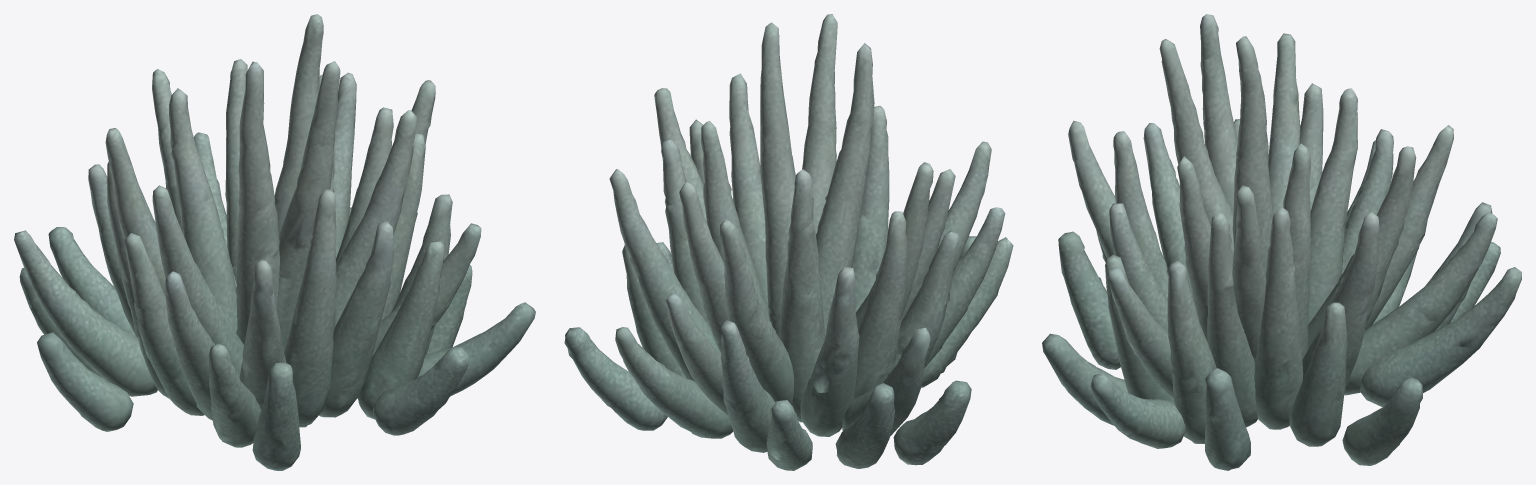
File: Digitate02-transformed.glb
3 views of the same model, side by side, from view 1: azimuth 30°, elevation 25°; view 2: azimuth 150°, elevation 25°; view 3: azimuth 270°, elevation 25° (orthographic). The views are drawn at different scales.
Visible parts, largest first — view 1: Digitate02; view 2: Digitate02; view 3: Digitate02.
Part boxes in pixels (left/top/right/bottom): Digitate02: left=14, top=14, right=535, bottom=470; Digitate02: left=564, top=14, right=1013, bottom=470; Digitate02: left=1042, top=14, right=1521, bottom=470.
Bounding box in the file's own units: 4.16 × 4.04 × 4.46.
Materials: 1 (1 with a texture image).
